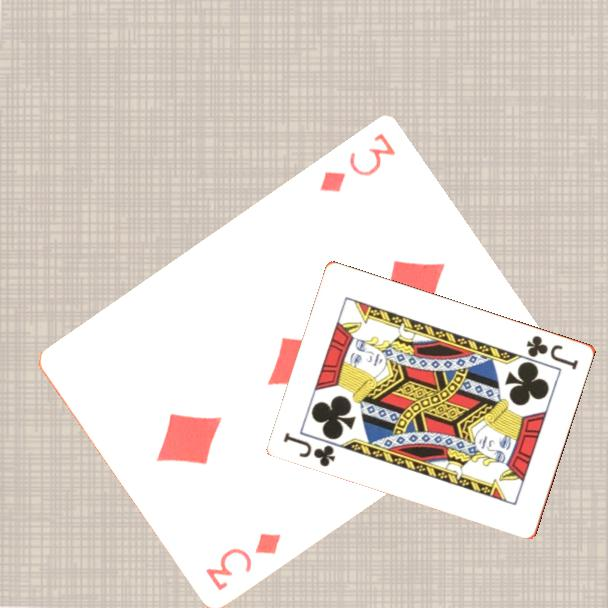c11: (280, 429, 339, 470), (523, 332, 582, 372)
d03: (316, 130, 398, 197), (202, 529, 284, 594)
